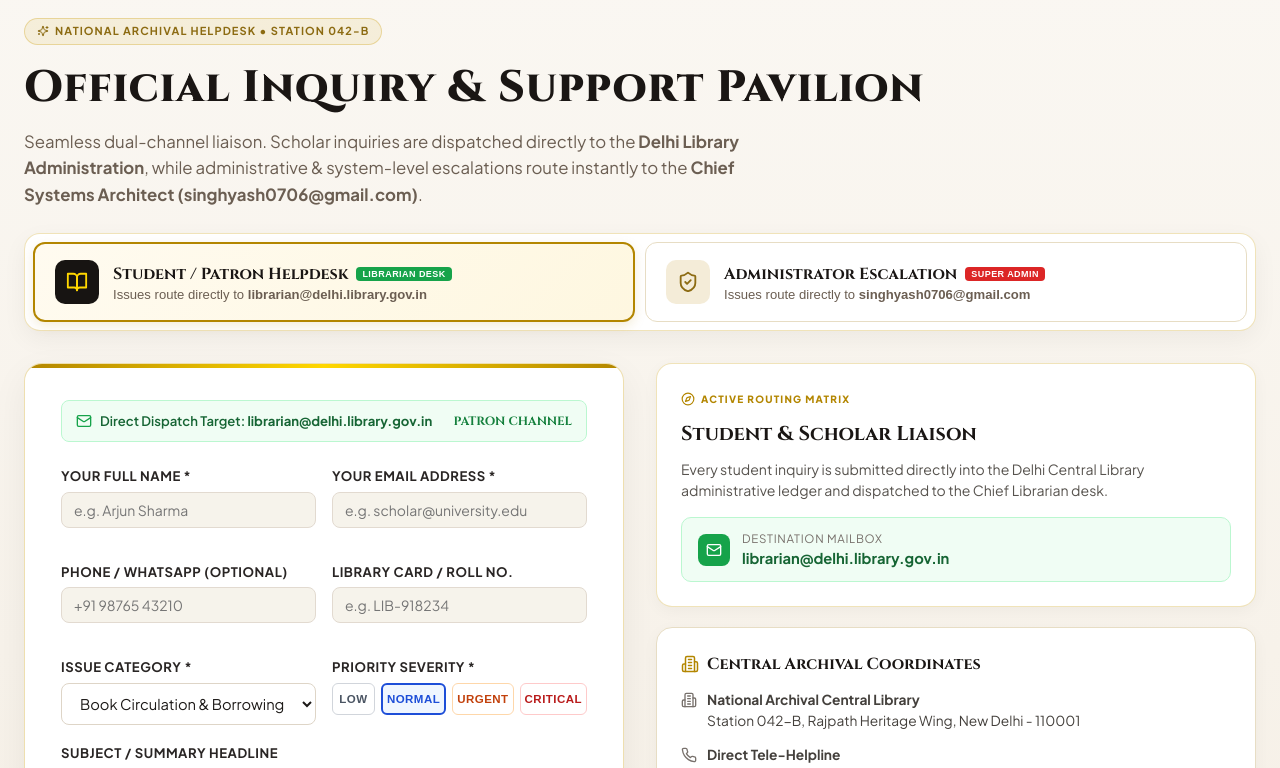
it: Contact & Archival Role-Based Routing › successfully creates ticket and opens confirmation modal with ticket number
Step 1. Type "Rohan Verma" into the field with placeholder "e.g. Arjun Sharma" → (188, 510), box [61,492,316,528]
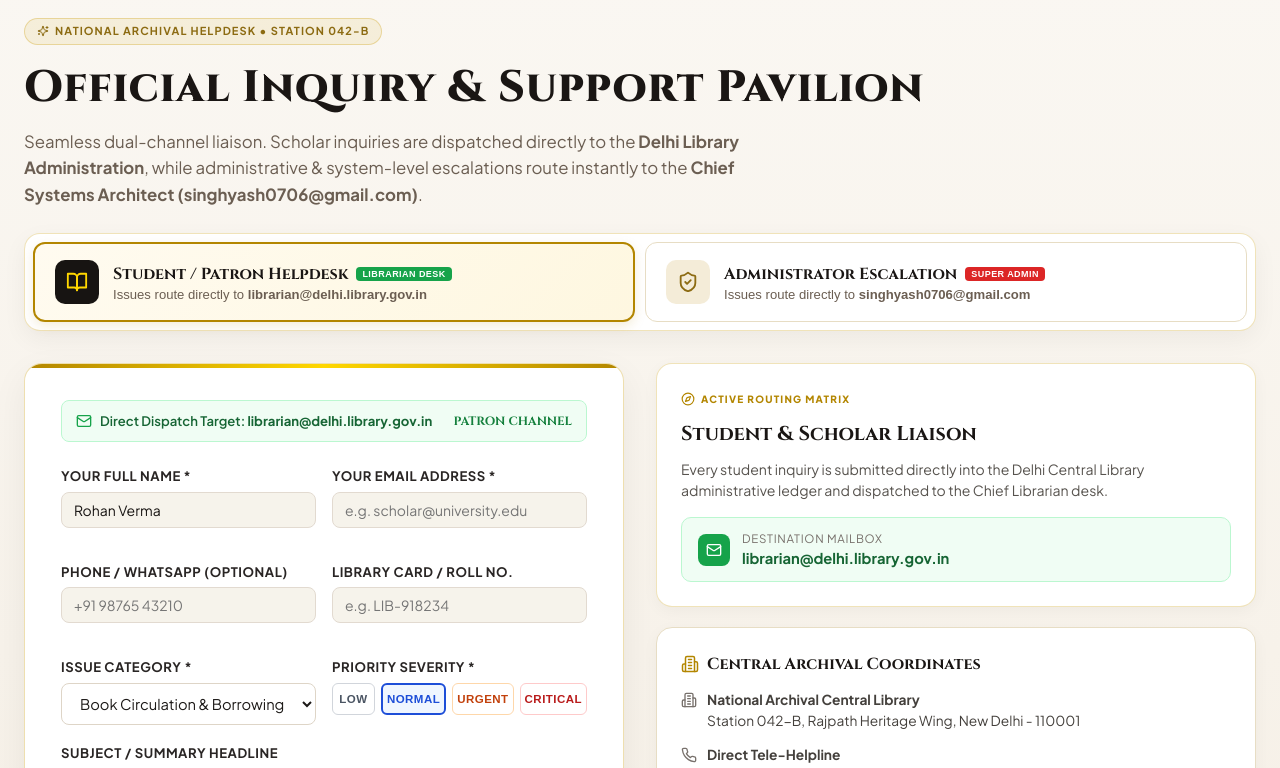
Step 2. Type "rohan.verma@iitb.ac.in" into the field with placeholder "e.g. scholar@university.edu" → (460, 510), box [332,492,587,528]
(page scrolled)
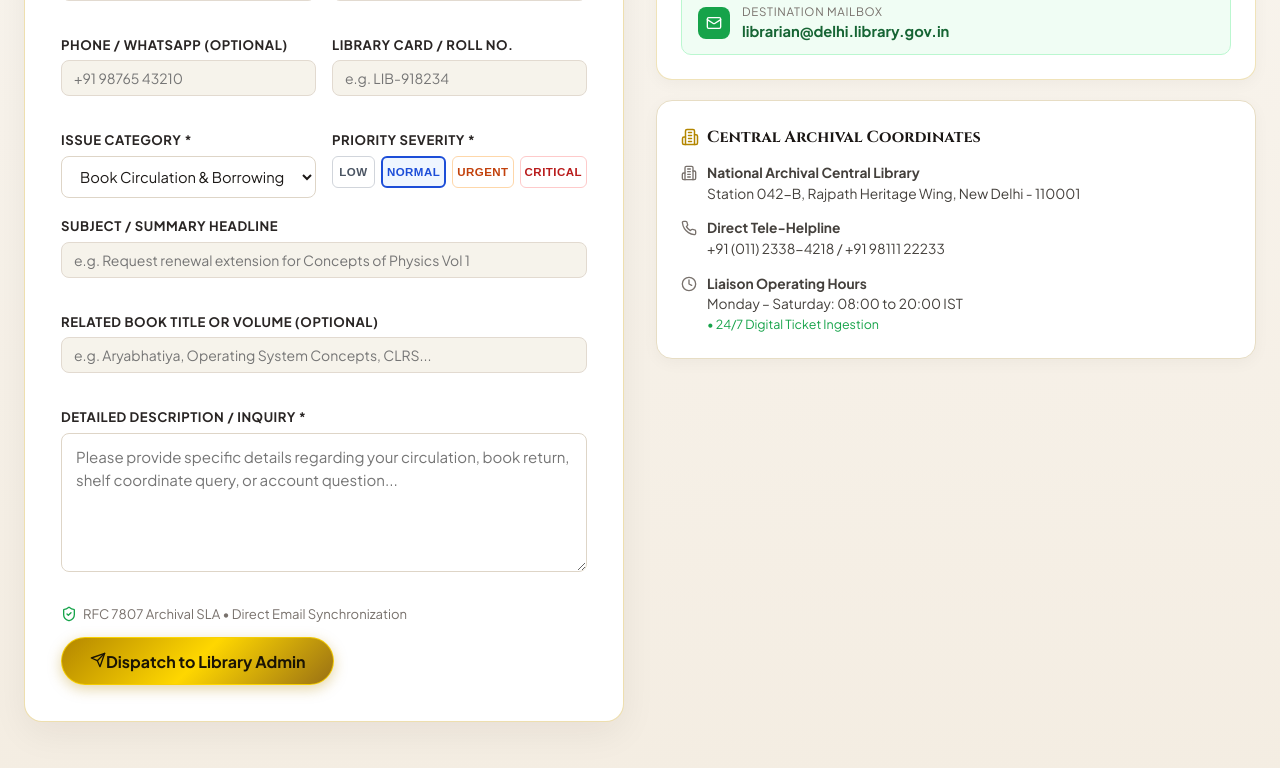
Step 3. Replace the text in the text box with placeholder "Please provide specific details" with "Need research reservation hold for Aryabhatiya volume 2." → (324, 502), box [61,433,587,572]
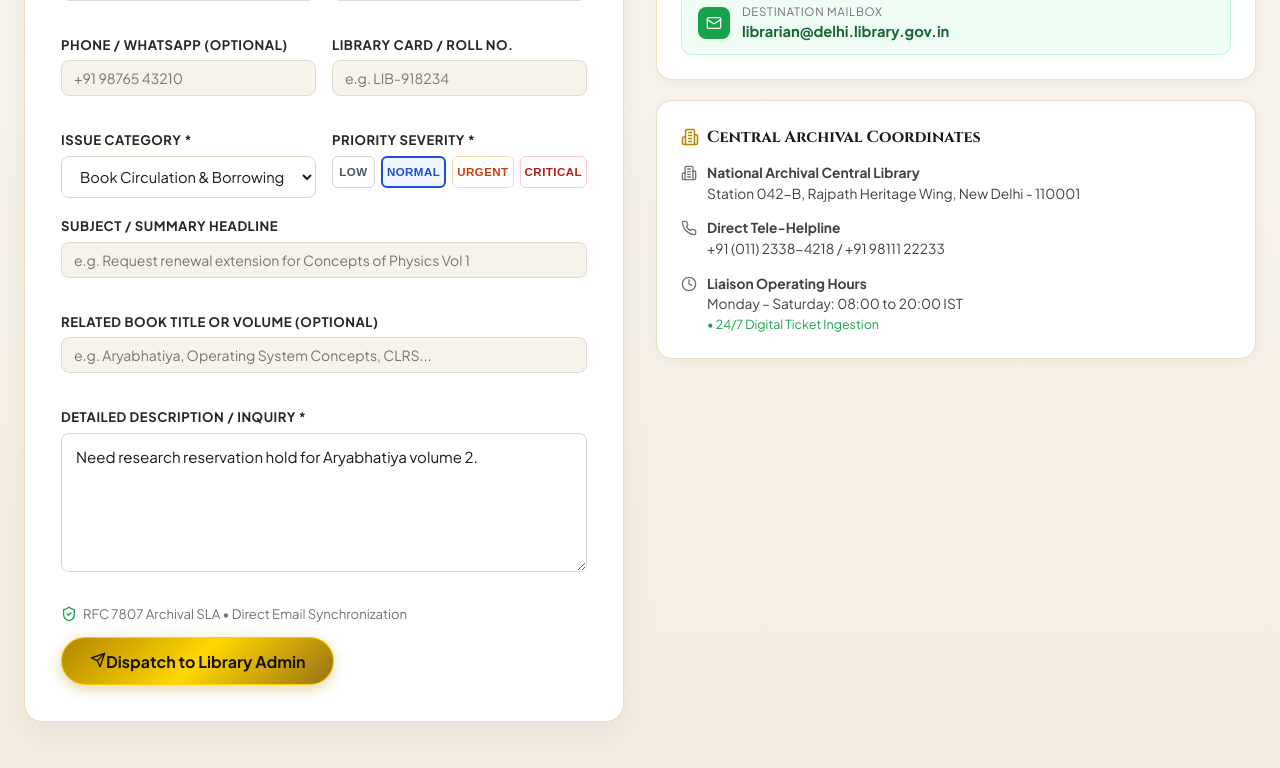
Note: Submit form
Step 4. Click the button "Dispatch to Library Admin" → (198, 661), box [61,637,334,685]
(page scrolled)
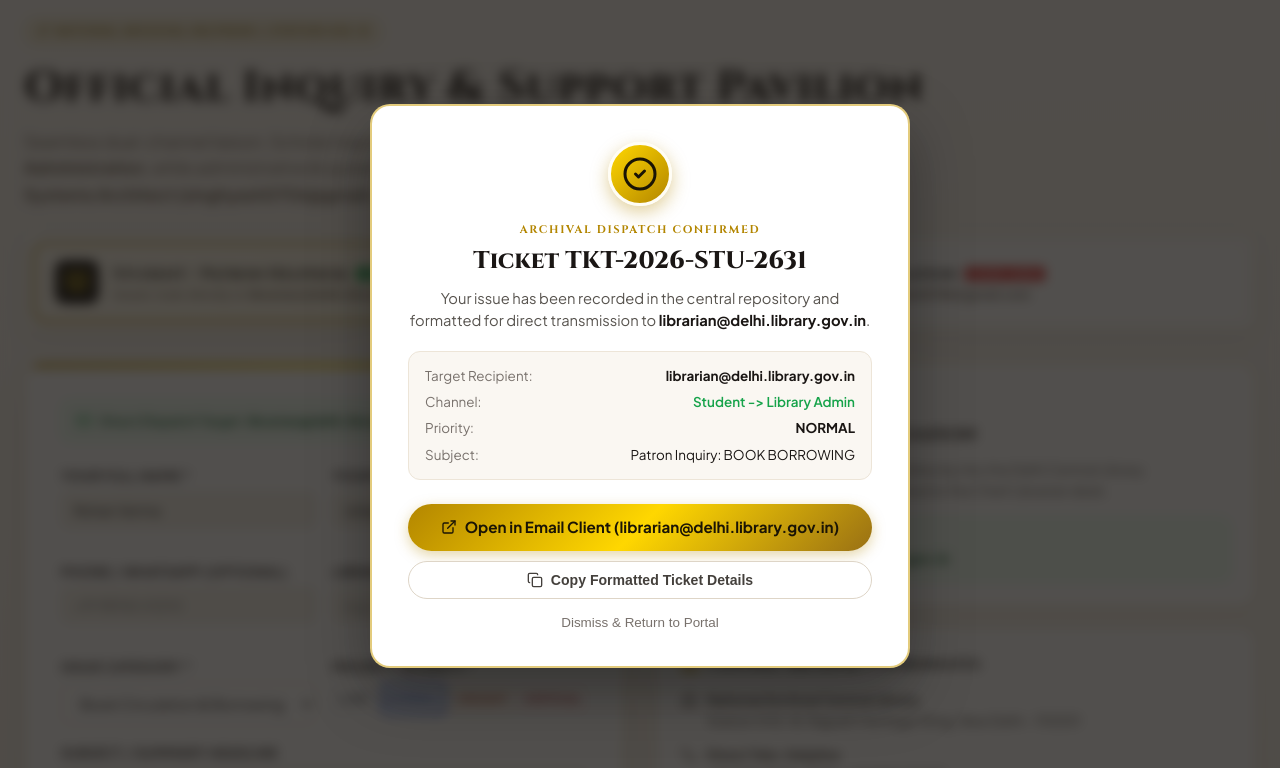
Expected: the text "librarian@delhi.library.gov.in" below "Delhi Library Administration" is shown, [248,287,427,302]
Now the text "ARCHIVAL DISPATCH CONFIRMED" is shown, box [520,222,760,238]
